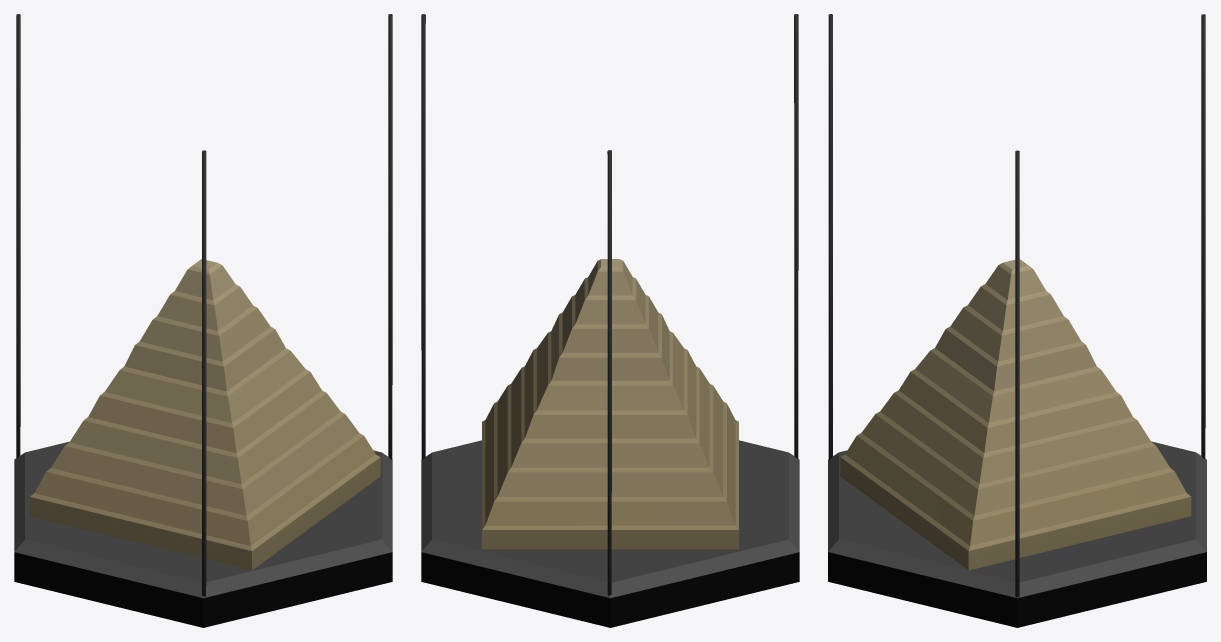
Rendered from egyptianCastle.fbx.
3 renders of one model, left to right at view 1: azimuth 30°, elevation 25°; view 2: azimuth 150°, elevation 25°; view 3: azimuth 270°, elevation 25°, orthographic.
Visible parts, largest first — view 1: egyptianCastle; view 2: egyptianCastle; view 3: egyptianCastle.
Boxes of the visible parts, x1,y1,x2,y2 form: egyptianCastle: (14,14,392,627); egyptianCastle: (421,14,799,627); egyptianCastle: (828,14,1206,627).
Bounding box in the file's own units: 2 × 2.4 × 1.73.
